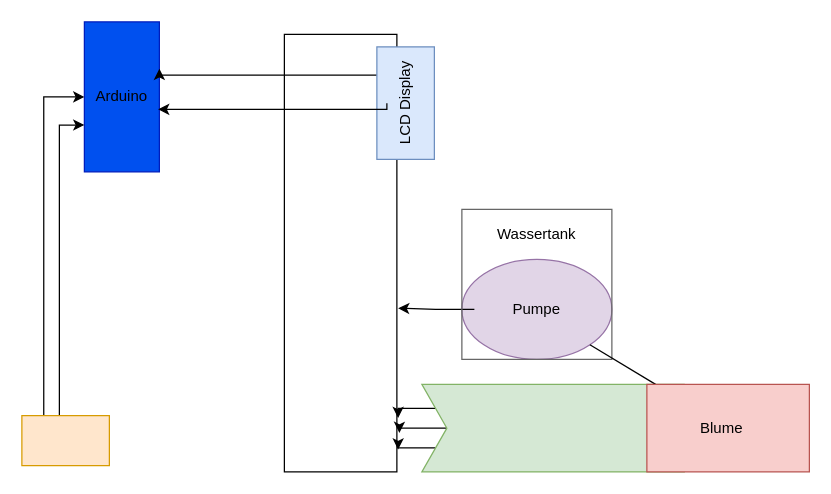
Some shapes in this 831 by 494 pixel diagram are drawn without their labels. The centre of each missing label's shape, as x and y in pixels:
Feuchtigkeitssensor: (x=565, y=427)
Relais: (x=65, y=440)
